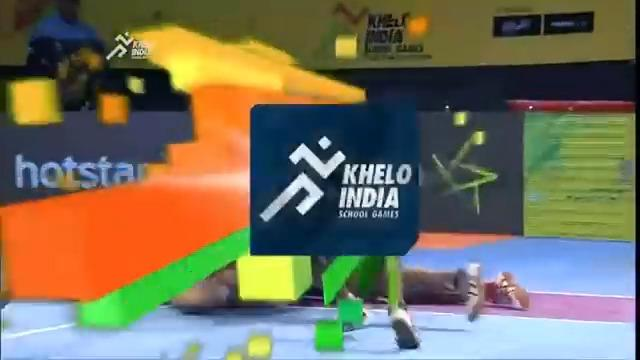referee: (24, 0, 108, 110)
